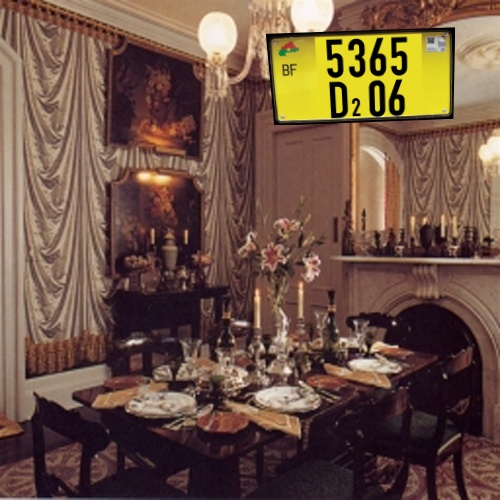plate: (256, 23, 470, 134)
